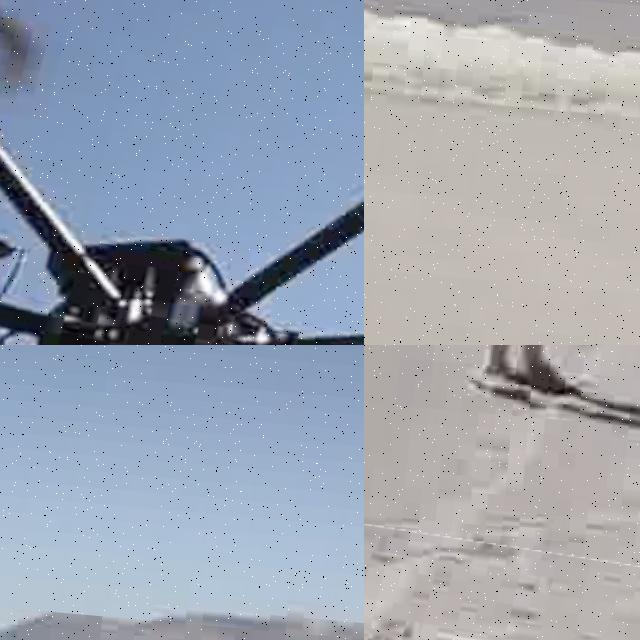drone: (0, 0, 364, 345), (364, 504, 640, 640)
